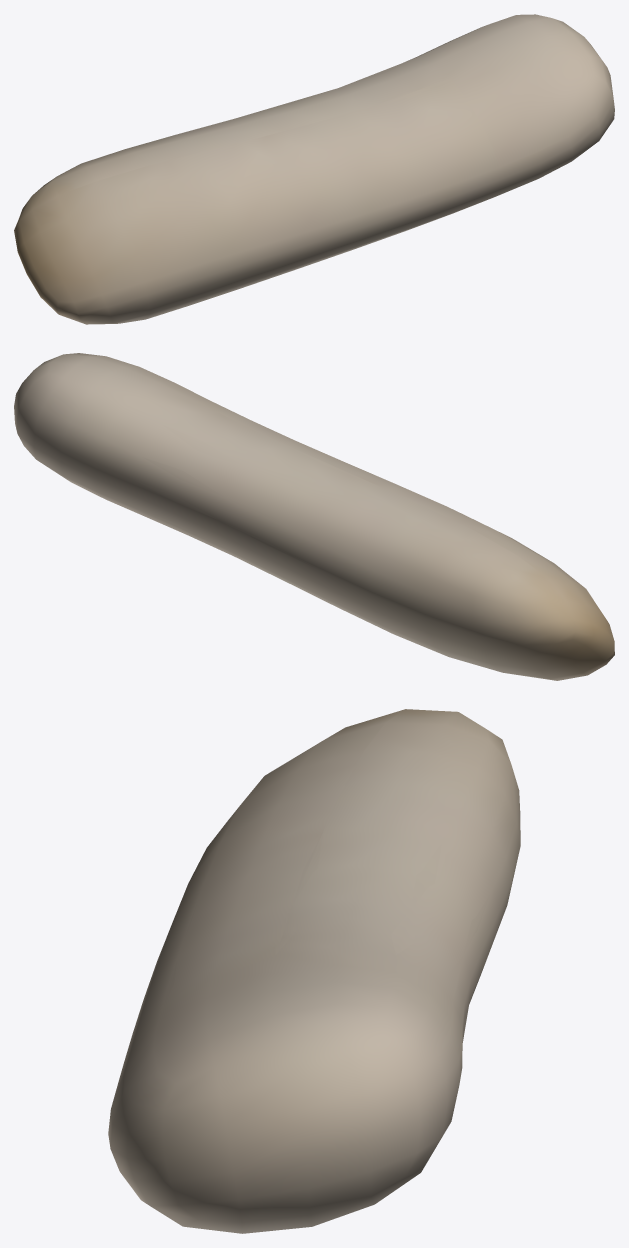
The picture shows the model from 3 angles, top to bottom: view 1: azimuth 30°, elevation 25°; view 2: azimuth 150°, elevation 25°; view 3: azimuth 270°, elevation 25°; orthographic projection. The views are drawn at different scales.
Parts seen in each view (by area): view 1: CC L5, CC L5 low; view 2: CC L5, CC L5 low; view 3: CC L5, CC L5 low.
Part boxes in pixels (bbox=[...]): CC L5: bbox=[14, 14, 614, 324]; CC L5 low: bbox=[239, 56, 480, 182]; CC L5: bbox=[14, 353, 614, 680]; CC L5 low: bbox=[135, 402, 373, 596]; CC L5: bbox=[108, 709, 520, 1233]; CC L5 low: bbox=[161, 830, 492, 1042].
Size of the model in its own units: 2.28 by 0.7382 by 0.7348.
1 material, 1 textured.
